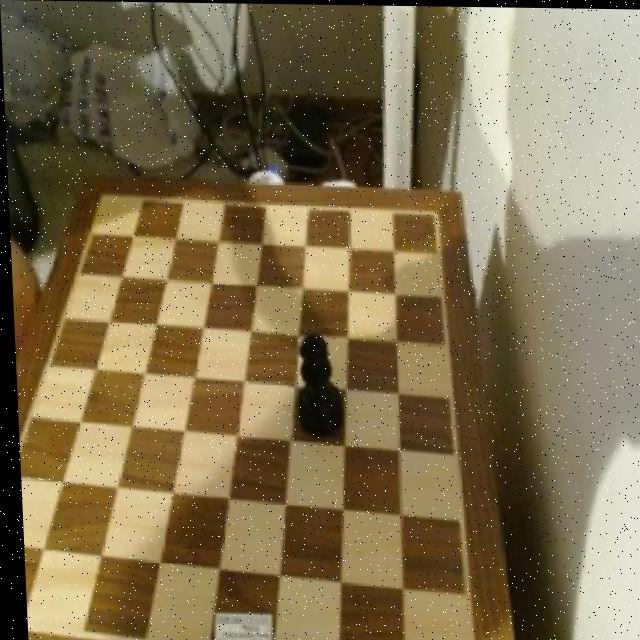black-pawn: (282, 325, 341, 436)
